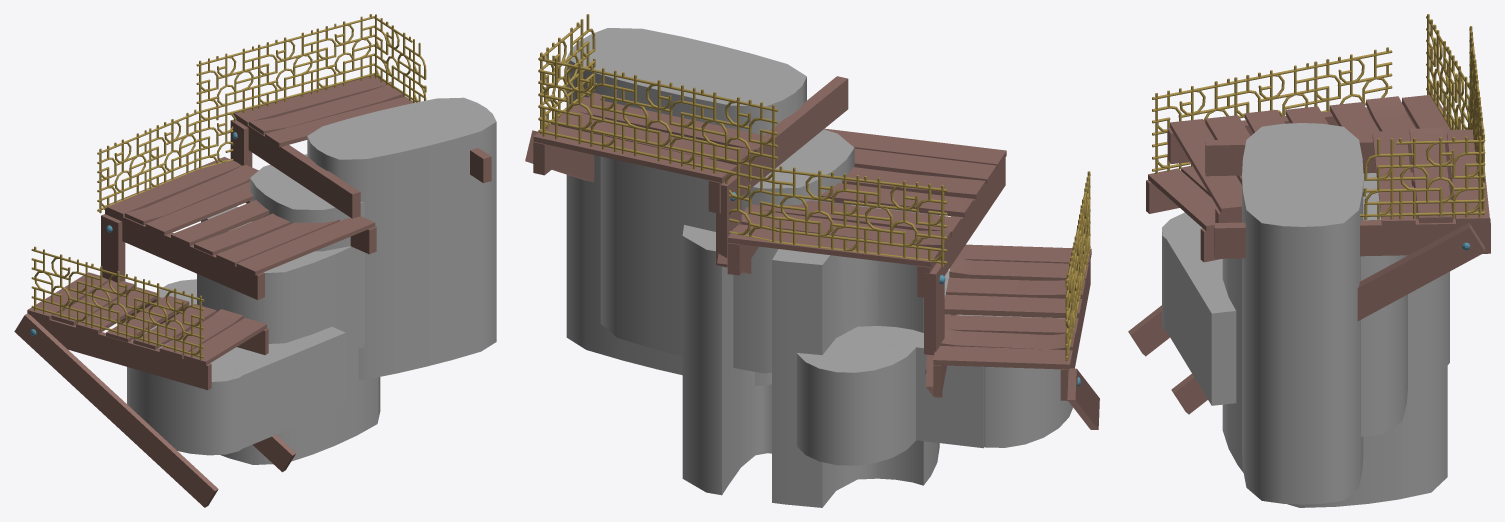
Rendered from hot springs stairs be.fbx.
The picture shows the model from 3 angles, left to right: view 1: azimuth 30°, elevation 25°; view 2: azimuth 150°, elevation 25°; view 3: azimuth 270°, elevation 25°; orthographic projection. The views are drawn at different scales.
Parts seen in each view (by area): view 1: floor10_floor, stairs1_board, ceilling3, ceilling4, ceilling9, ceilling10, ceilling11, ceilling5, ceilling8, ceilling6, ceilling1, ceilling7 (+1 smaller); view 2: floor10_floor, stairs1_board, ceilling8, ceilling6, ceilling3, ceilling4, ceilling5, ceilling1, ceilling7, ceilling11, ceilling2, ceilling9 (+1 smaller); view 3: floor10_floor, stairs1_board, ceilling1, ceilling11, ceilling9, ceilling8, ceilling10, ceilling6, ceilling2, ceilling3, ceilling5, ceilling4.
Boxes of the visible parts, x1=… form: floor10_floor: x1=127, y1=97, x2=496, y2=464; stairs1_board: x1=14, y1=75, x2=491, y2=507; ceilling3: x1=315, y1=14, x2=373, y2=92; ceilling4: x1=256, y1=30, x2=315, y2=108; ceilling9: x1=146, y1=280, x2=204, y2=359; ceilling10: x1=89, y1=263, x2=146, y2=342; ceilling11: x1=31, y1=246, x2=89, y2=326; ceilling5: x1=196, y1=46, x2=256, y2=124; ceilling8: x1=97, y1=130, x2=148, y2=213; ceilling6: x1=147, y1=109, x2=198, y2=189; ceilling1: x1=374, y1=14, x2=412, y2=100; ceilling7: x1=197, y1=104, x2=256, y2=169; floor10_floor: x1=566, y1=28, x2=1072, y2=507; stairs1_board: x1=525, y1=76, x2=1099, y2=429; ceilling8: x1=861, y1=176, x2=947, y2=266; ceilling6: x1=776, y1=166, x2=862, y2=252; ceilling3: x1=539, y1=55, x2=619, y2=151; ceilling4: x1=618, y1=72, x2=698, y2=169; ceilling5: x1=698, y1=89, x2=778, y2=184; ceilling1: x1=538, y1=22, x2=580, y2=134; ceilling7: x1=698, y1=162, x2=777, y2=242; ceilling11: x1=1065, y1=245, x2=1075, y2=361; ceilling2: x1=580, y1=14, x2=596, y2=100; ceilling9: x1=1080, y1=171, x2=1090, y2=284; floor10_floor: x1=1162, y1=123, x2=1449, y2=507; stairs1_board: x1=1128, y1=94, x2=1490, y2=414; ceilling1: x1=1396, y1=136, x2=1484, y2=219; ceilling11: x1=1311, y1=47, x2=1392, y2=111; ceilling9: x1=1152, y1=78, x2=1233, y2=173; ceilling8: x1=1426, y1=14, x2=1449, y2=123; ceilling10: x1=1232, y1=63, x2=1312, y2=118; ceilling6: x1=1447, y1=49, x2=1469, y2=129; ceilling2: x1=1360, y1=138, x2=1396, y2=219; ceilling3: x1=1478, y1=100, x2=1485, y2=215; ceilling5: x1=1469, y1=26, x2=1476, y2=139; ceilling4: x1=1474, y1=63, x2=1480, y2=175.
Size of the model in its own units: 10.34 by 7.49 by 5.98.
